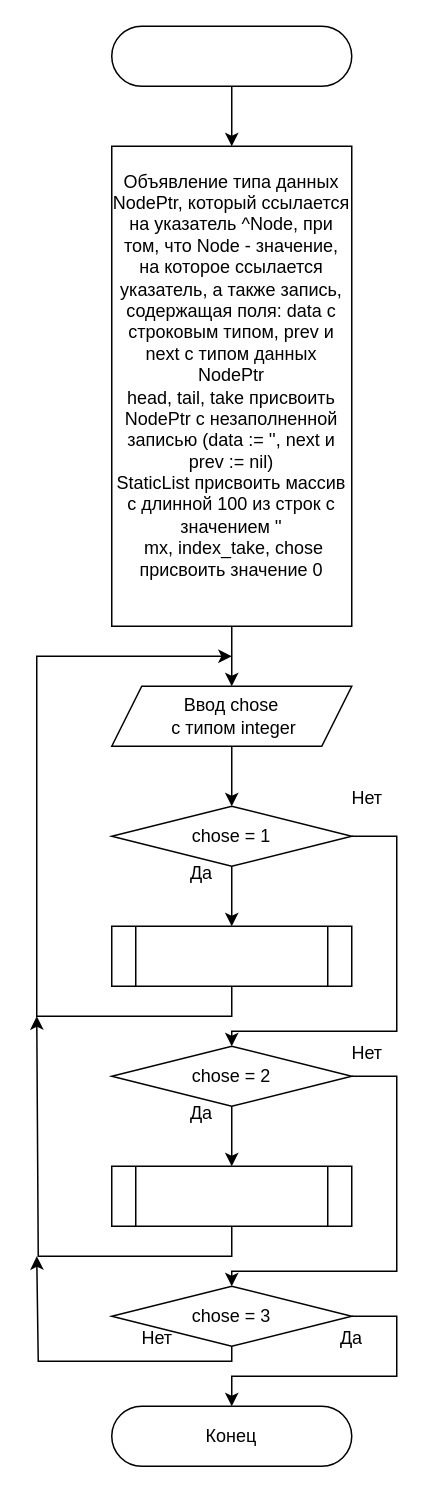
This 435x1493 diagram has some shape labels left out. Here are the shapes that lost their labels. From the top down, the centre of each, then its label:
the point at 231,55: Начало
the point at 231,955: message_static
the point at 231,1195: message_node
